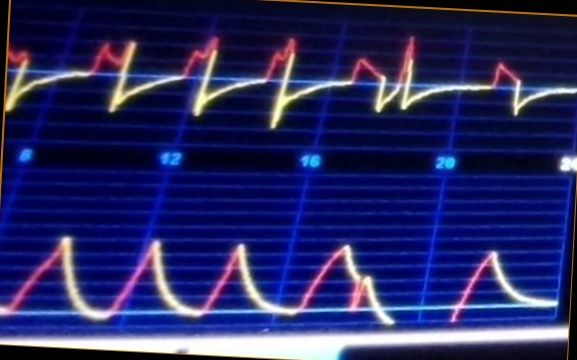Double_Triggering Flow: (9, 28, 570, 133)
Double_Triggering Volume: (1, 230, 555, 327)
